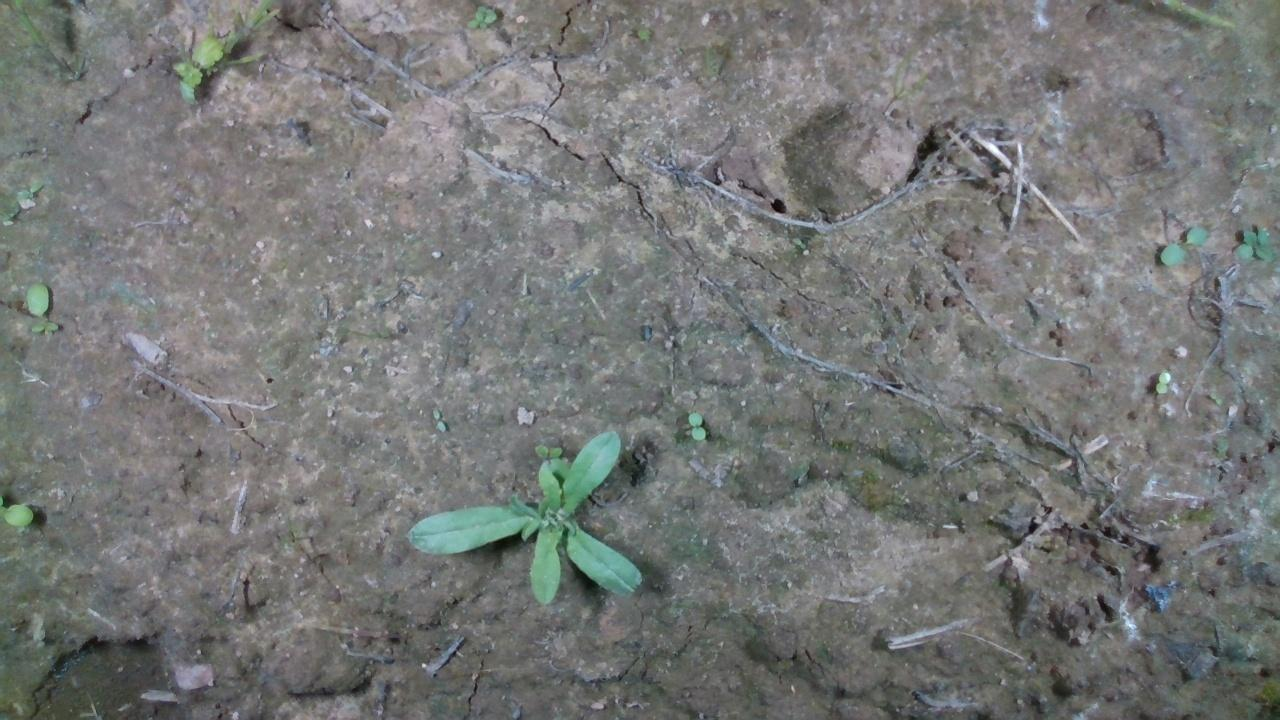weed: (1156, 222, 1209, 267), (1230, 225, 1273, 260), (685, 408, 708, 441), (1153, 369, 1172, 393)
